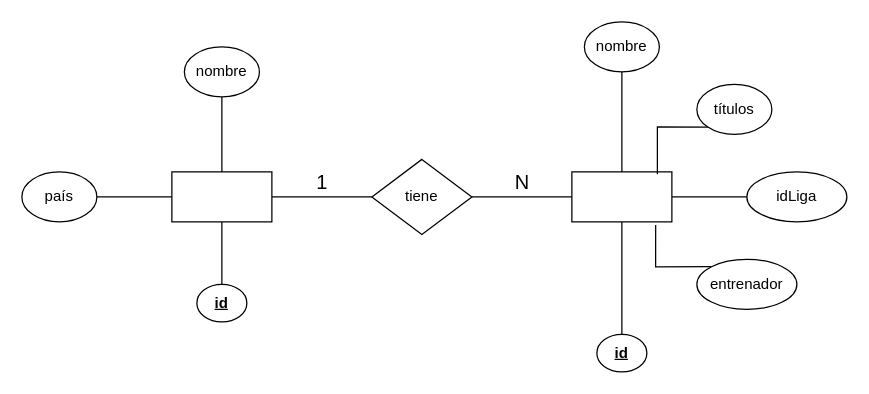
Image size: 869x394. Some labels were removed from this diagram. Each missing label, with the centre of its shape:
Equipo: pixel 621 196
Liga: pixel 221 196
